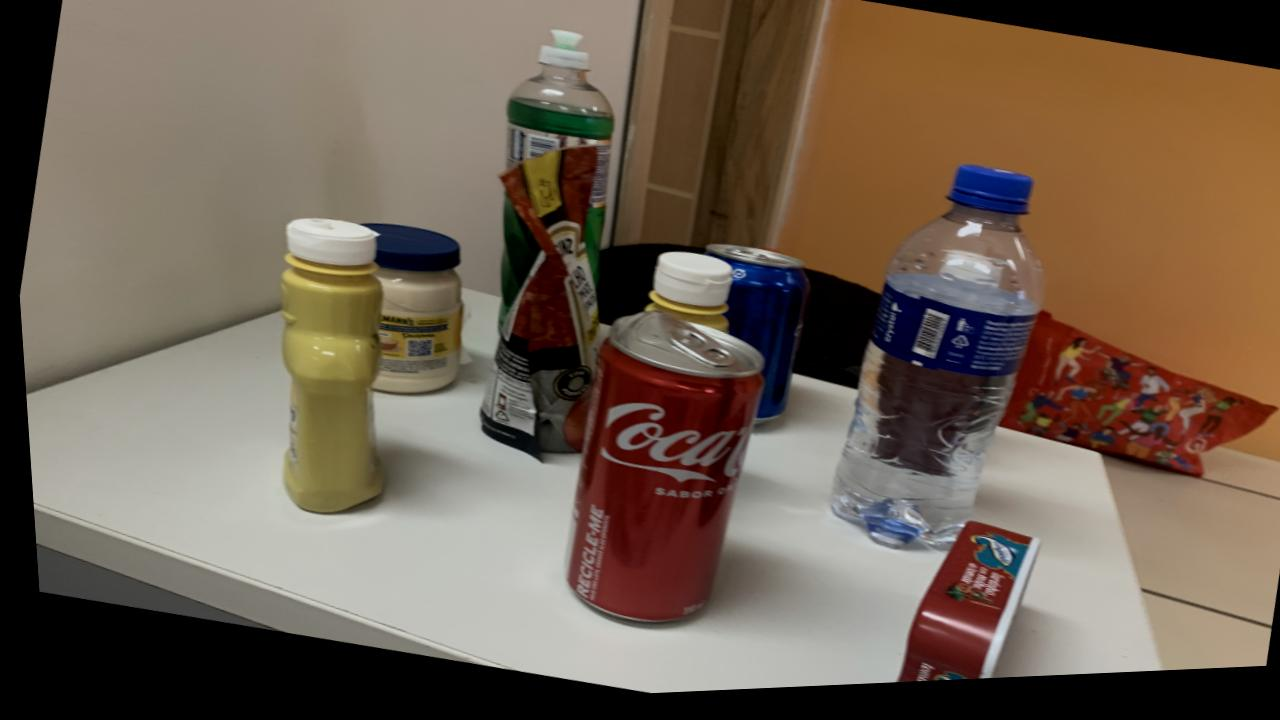Coke-Drinks: (556, 317, 758, 629)
Detergent-Cleanup_Items: (503, 35, 613, 363), (494, 203, 541, 330)
Mayonnaise-Pantry_Items: (361, 227, 459, 397)
Mustard-Pantry_Items: (275, 221, 378, 516), (640, 257, 728, 339)
Tomato_Sauce-Pantry_Items: (473, 151, 596, 463)
Tonic-Drinks: (702, 250, 806, 429)
Tuna_Can-Pantry_Items: (887, 530, 1031, 690)
Water_Bottle-Drinks: (822, 175, 1040, 555)
